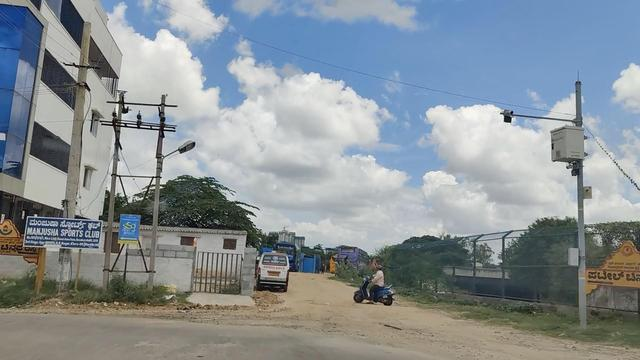LMV: (258, 252, 288, 291), (362, 262, 392, 301)
RoadDamages: (198, 342, 238, 360), (136, 339, 167, 357)
